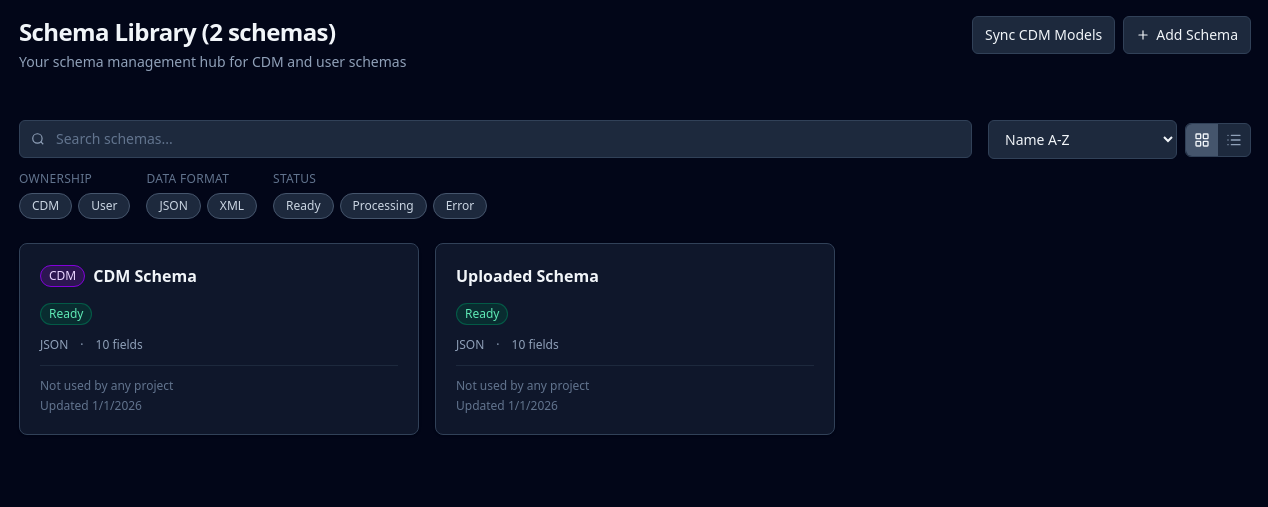
SchemaLibraryPage › toggling origin filter updates displayed cards
Expected: the number of elements with test id "schema-library-card" is 2, 19,243 -> 419,435; 435,243 -> 835,435
Click the button "CDM". click: (46, 206)
box: 19,193 -> 72,219
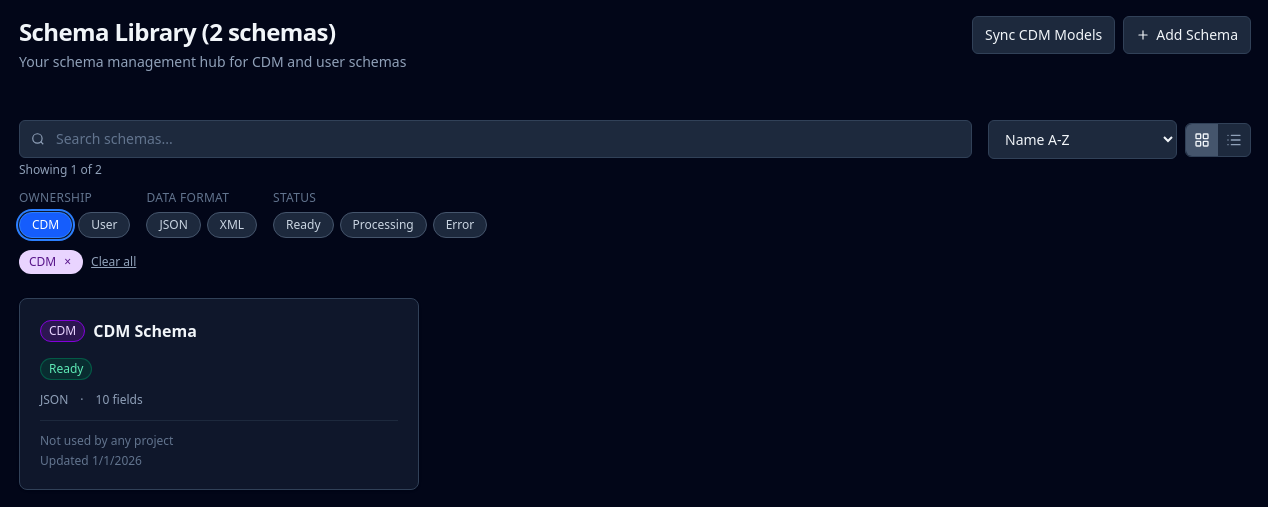
Expected: the heading "CDM Schema" is shown, 93,319 -> 197,343
Expected: the number of elements with test id "schema-library-card" is 1, 19,298 -> 419,490
